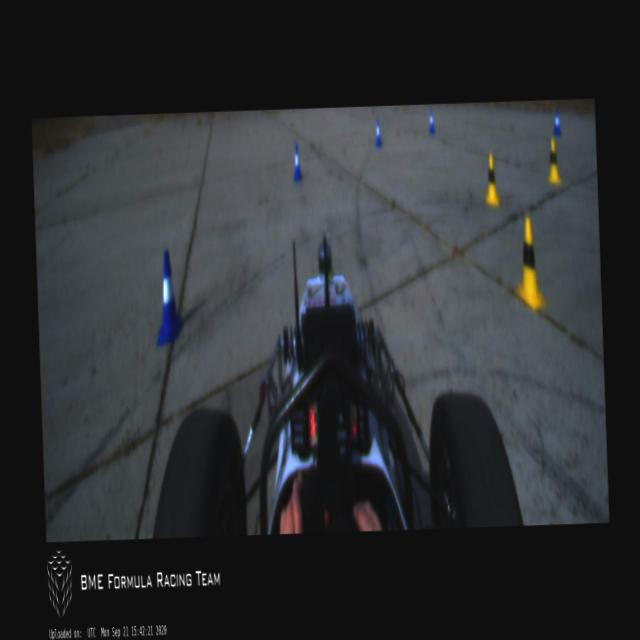blue_cone: (153, 250, 184, 348), (292, 144, 302, 182), (552, 107, 563, 138), (374, 120, 382, 146), (428, 110, 434, 134)
yellow_cone: (512, 216, 546, 314), (484, 150, 499, 207), (545, 137, 562, 185)
